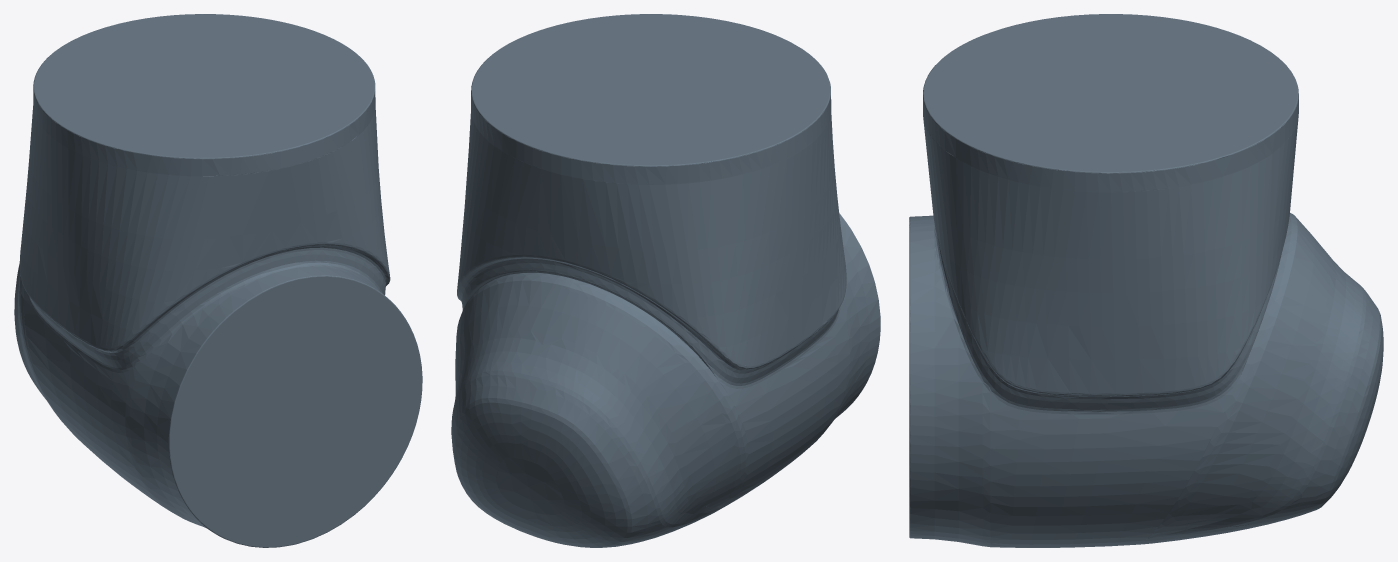
3 views of the same model, side by side, from view 1: azimuth 30°, elevation 25°; view 2: azimuth 150°, elevation 25°; view 3: azimuth 270°, elevation 25° (orthographic). The views are drawn at different scales.
Visible parts, largest first — view 1: H2515_3_0; view 2: H2515_3_0; view 3: H2515_3_0.
Part boxes in pixels (left/top/right/bottom): H2515_3_0: left=14, top=14, right=422, bottom=547; H2515_3_0: left=451, top=14, right=880, bottom=547; H2515_3_0: left=909, top=14, right=1383, bottom=547.
Size of the model in its own units: 153 by 193 by 197.
